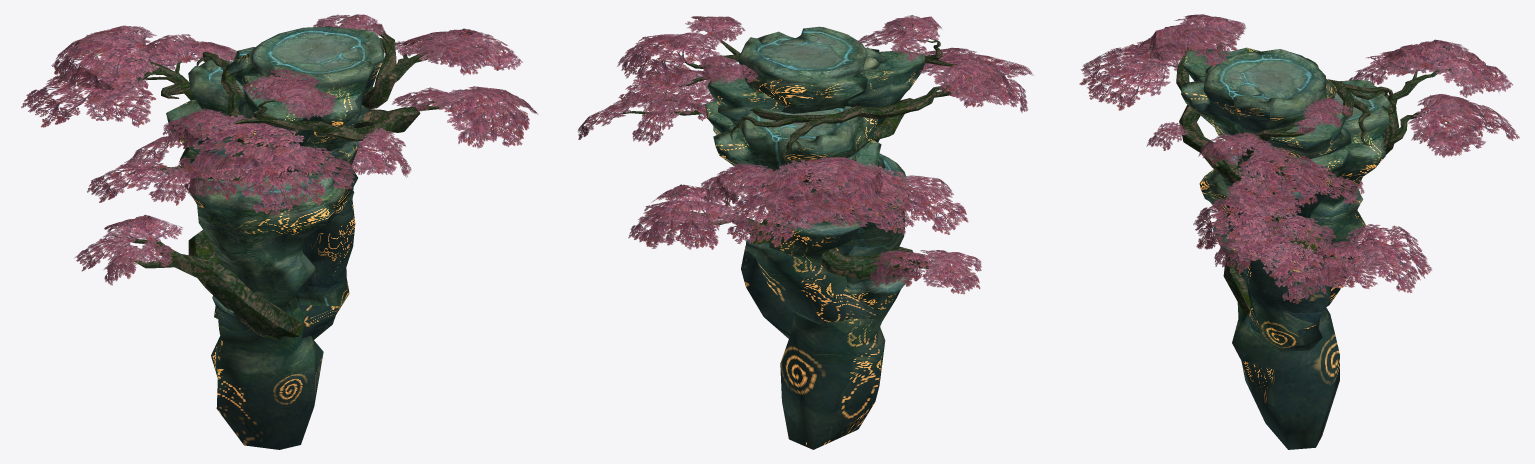
Rendered from Sky_mountain_03.glb.
3 renders of one model, left to right at view 1: azimuth 30°, elevation 25°; view 2: azimuth 150°, elevation 25°; view 3: azimuth 270°, elevation 25°, orthographic. The views are drawn at different scales.
Parts seen in each view (by area): view 1: Stone_mountain_03; view 2: Stone_mountain_03; view 3: Stone_mountain_03.
Part boxes in pixels (x1,y1,x2,y2): Stone_mountain_03: (21,14,538,449); Stone_mountain_03: (578,15,1033,449); Stone_mountain_03: (1079,14,1519,449).
Size of what is drawn, in the model's own units: 8.43 by 7.44 by 7.69.
Materials: 3 (3 with a texture image).
